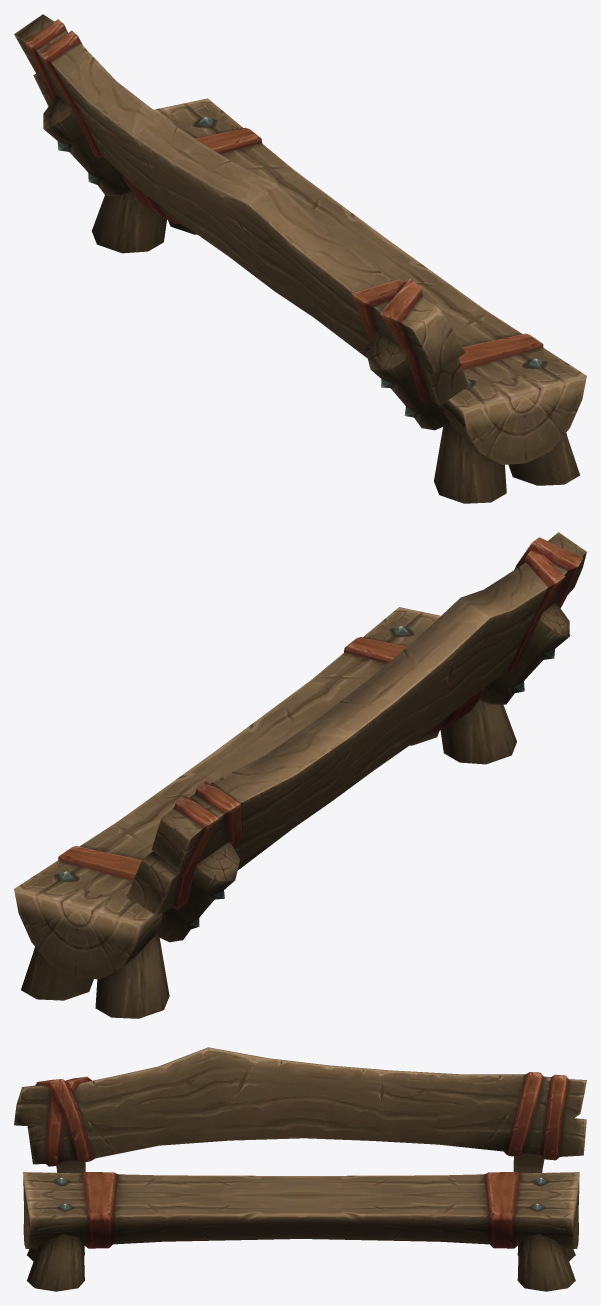
3 views of the same model, one above another, from view 1: azimuth 30°, elevation 25°; view 2: azimuth 150°, elevation 25°; view 3: azimuth 270°, elevation 25° (orthographic). The views are drawn at different scales.
Bounding box in the file's own units: 1.01 × 1.08 × 3.17.
Materials: 1 (1 with a texture image).
